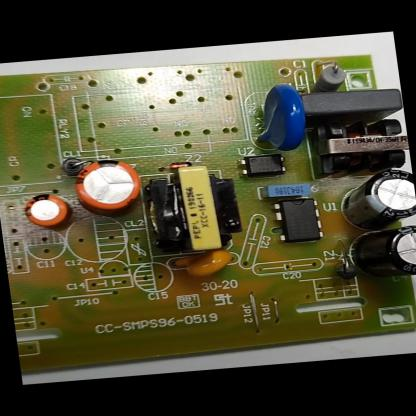Cap1: (68, 154, 147, 214)
Cap2: (17, 190, 72, 227)
Cap3: (336, 166, 416, 230)
Cap4: (342, 223, 416, 281)
MOSFET: (274, 196, 324, 242)
Mov: (244, 79, 311, 153)
Resistor: (309, 60, 353, 92)
Transformer: (145, 160, 245, 257), (312, 113, 411, 175)
